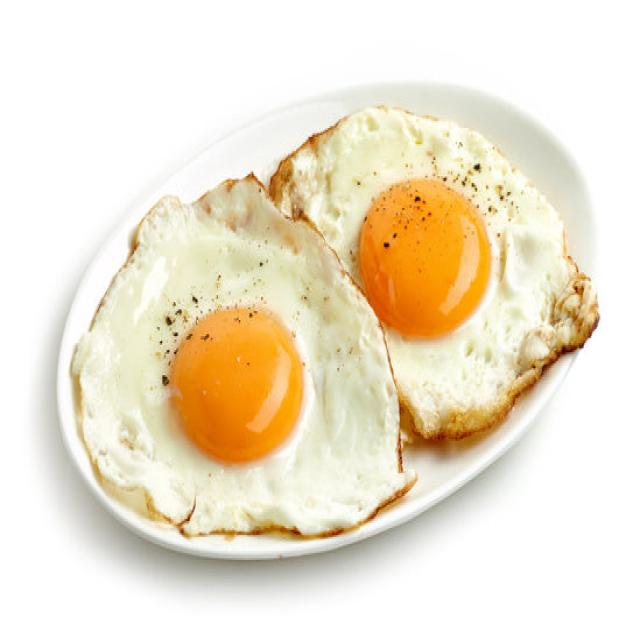Egg: (270, 107, 598, 439)
